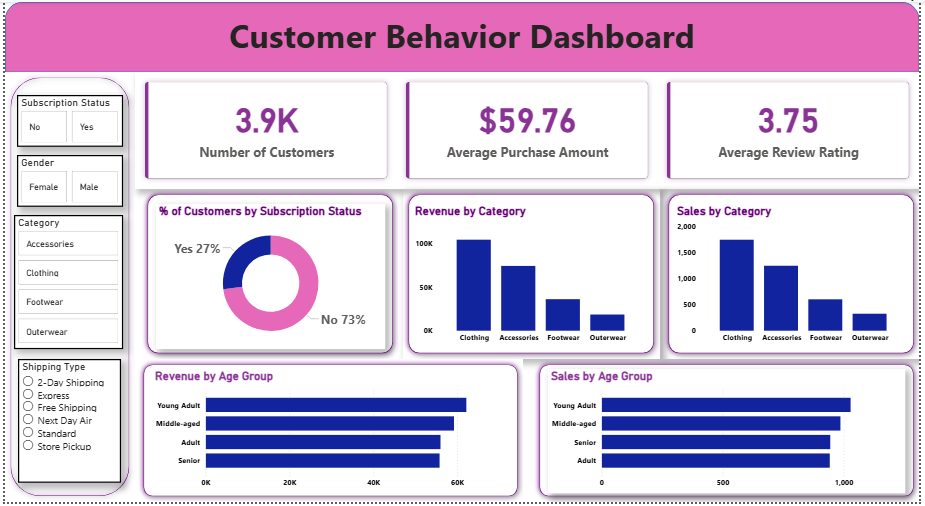

Layout of this report page (visuals, bound fields, positions):
{"tool":"powerbi","page":{"name":"Page 1","canvas":[1500,820],"ordinal":0},"visuals":[{"type":"cardVisual","fields":{"Data":["public customer.Number of Customers","public customer.Average Purchase Amount","public customer.Average Review Rating"]},"box":[212.9,115.3,1286.5,191.6],"z":2000},{"type":"shape","box":[218.3,585.6,631.7,234.2],"z":2500,"group":"g1"},{"type":"shape","box":[0,0,1499.4,115.3],"z":3000},{"type":"textbox","box":[0,12.4,1499.4,102.9],"z":4000},{"type":"shape","box":[225.4,307,420.5,278.6],"z":5000},{"type":"donutChart","title":"% of Customers by Subscription Status","fields":{"Category":["public customer.subscription_status"],"Y":["CountNonNull(public customer.customer_id)"]},"box":[248.4,331.8,376.2,237.8],"z":6000},{"type":"shape","box":[1078.9,307,420.5,278.6],"z":7000},{"type":"shape","box":[652.1,307,420.5,278.6],"z":8000},{"type":"clusteredColumnChart","title":"Revenue by Category","fields":{"Y":["Sum(public customer.purchase_amount)"],"Category":["public customer.category"]},"box":[667.2,331.8,385.1,237.8],"z":9000},{"type":"clusteredColumnChart","title":"Sales by Category","fields":{"Y":["CountNonNull(public customer.customer_id)"],"Category":["public customer.category"]},"box":[1096.6,331.8,385.1,237.8],"z":10000},{"type":"shape","box":[0,115.3,212.9,704.5],"z":11000},{"type":"advancedSlicerVisual","fields":{"Values":["public customer.subscription_status"]},"box":[19.5,153,173.9,85.2],"z":12000},{"type":"advancedSlicerVisual","fields":{"Values":["public customer.gender"]},"box":[19.5,251,173.9,85.2],"z":13000},{"type":"advancedSlicerVisual","fields":{"Values":["public customer.category"]},"box":[14.8,349.3,178.8,219.8],"z":14000},{"type":"listSlicer","fields":{"Values":["public customer.shipping_type"]},"box":[21.3,585.5,168.9,203.4],"z":15000},{"type":"shape","box":[867.7,585.6,631.7,234.2],"z":16000},{"type":"clusteredBarChart","title":"Sales by Age Group","fields":{"Y":["CountNonNull(public customer.customer_id)"],"Category":["public customer.age_group"]},"box":[890.8,601.5,585.6,204.1],"z":17000},{"type":"clusteredBarChart","title":"Revenue by Age Group","fields":{"Y":["Sum(public customer.purchase_amount)"],"Category":["public customer.age_group"]},"box":[241.4,601.6,585.6,204.1],"z":17500,"group":"g1"},{"type":"group","id":"g1","title":"Group 1","box":[218.3,585.6,631.7,234.2],"z":17501}]}

Visuals, with their boxes in screenshot pixels (x1, y1, x2, y2), scaled from the page's 1500x820 canvas onto the 925x506 screenshot:
cardVisual - public customer.Number of Customers x public customer.Average Purchase Amount: 131 71 924 189
shape: 135 361 524 505
shape: 0 0 924 71
textbox: 0 8 924 71
shape: 139 189 398 361
"% of Customers by Subscription Status" donutChart: 153 205 385 351
shape: 665 189 924 361
shape: 402 189 661 361
"Revenue by Category" clusteredColumnChart: 411 205 649 351
"Sales by Category" clusteredColumnChart: 676 205 914 351
shape: 0 71 131 505
advancedSlicerVisual - public customer.subscription_status: 12 94 119 147
advancedSlicerVisual - public customer.gender: 12 155 119 207
advancedSlicerVisual - public customer.category: 9 216 119 351
listSlicer - public customer.shipping_type: 13 361 117 487
shape: 535 361 924 505
"Sales by Age Group" clusteredBarChart: 549 371 910 497
"Revenue by Age Group" clusteredBarChart: 149 371 510 497
"Group 1" group: 135 361 524 505
